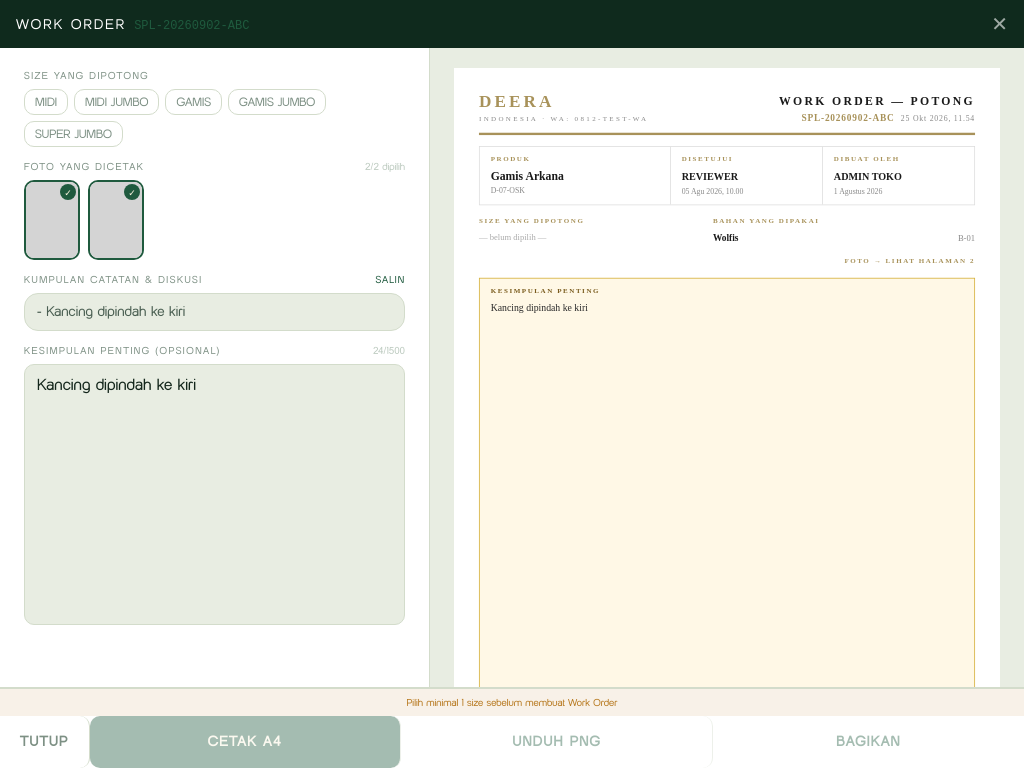
Test: WorkOrderModal — Kumpulan Catatan & Diskusi + tombol Salin (permintaan Denny 2026-09: 'saya rangkum sendiri aja, kasih textnya aja ... ada tombol copy') › klik Salin menyalin notesText ke clipboard dan label berubah jadi ✓ Tersalin
Click the button "Salin": (390, 280) x1=375 y1=272 x2=405 y2=287
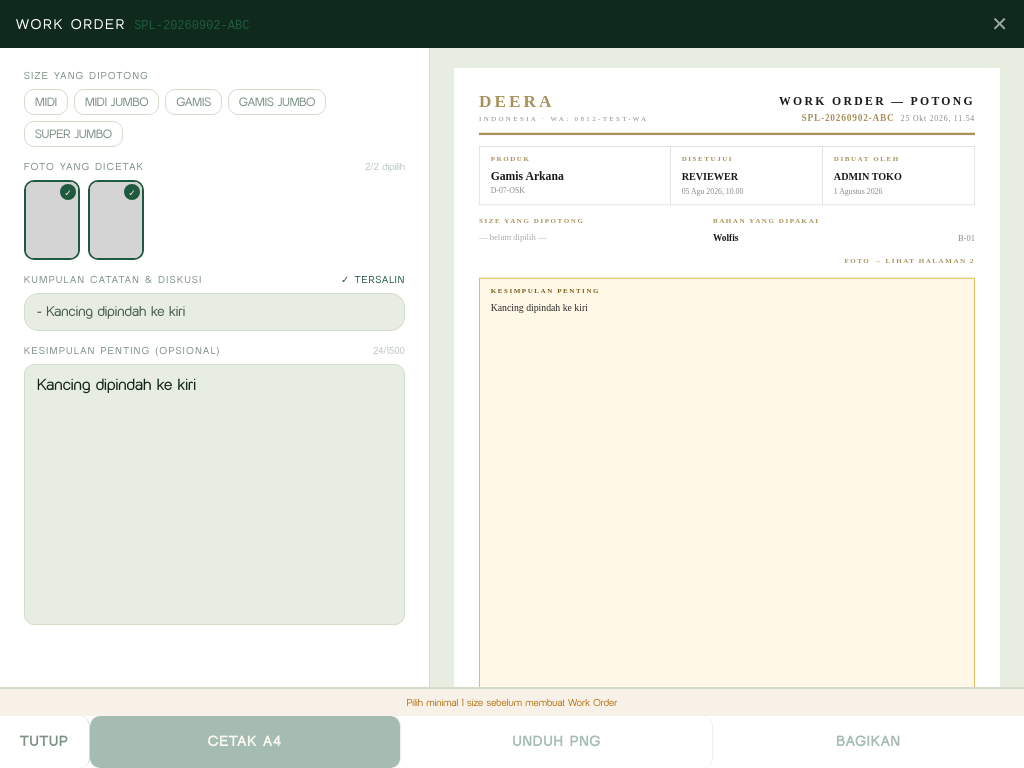
Check: the button "✓ Tersalin" is shown, box x1=341 y1=272 x2=405 y2=287
